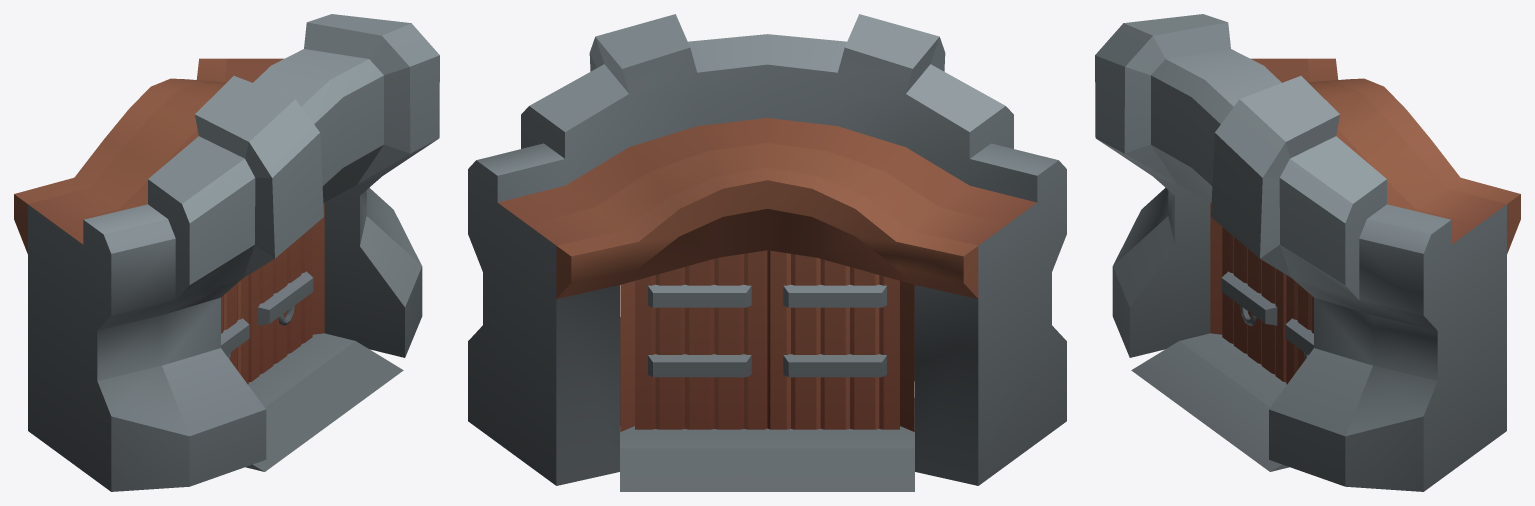
Rendered from H_wall_corner_A_gate.glb.
The picture shows the model from 3 angles, left to right: view 1: azimuth 30°, elevation 25°; view 2: azimuth 150°, elevation 25°; view 3: azimuth 270°, elevation 25°; orthographic projection. The views are drawn at different scales.
Visible parts, largest first — view 1: wall_corner_A_gate, wall_corner_A_gate_door_left, wall_corner_A_gate_door_right; view 2: wall_corner_A_gate, wall_corner_A_gate_door_right, wall_corner_A_gate_door_left; view 3: wall_corner_A_gate, wall_corner_A_gate_door_right, wall_corner_A_gate_door_left.
Part boxes in pixels (x1,y1,x2,y2): wall_corner_A_gate: (14, 14, 439, 491); wall_corner_A_gate_door_left: (248, 227, 313, 382); wall_corner_A_gate_door_right: (221, 275, 249, 384); wall_corner_A_gate: (468, 14, 1066, 491); wall_corner_A_gate_door_right: (767, 250, 899, 429); wall_corner_A_gate_door_left: (635, 250, 767, 429); wall_corner_A_gate: (1095, 14, 1520, 491); wall_corner_A_gate_door_right: (1221, 227, 1286, 382); wall_corner_A_gate_door_left: (1285, 275, 1313, 384).
Size of the model in its own units: 1.76 by 1.42 by 1.53.
